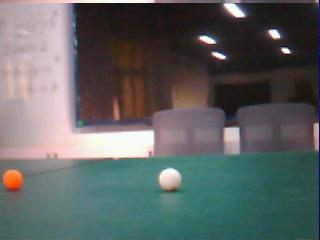oball: (3, 169, 22, 190)
